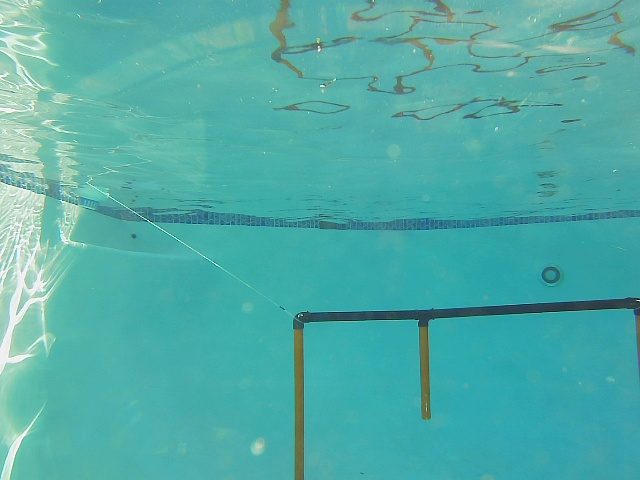Gate: (291, 323, 309, 480), (415, 326, 432, 422), (634, 313, 640, 381)
